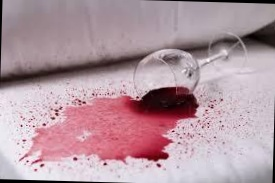wine: (34, 96, 197, 175)
